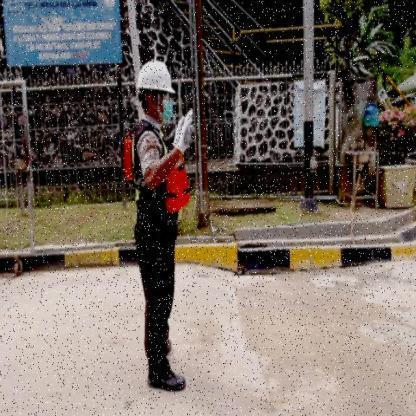boots: (146, 360, 187, 394)
gloves: (177, 110, 195, 154)
goggles: (144, 91, 172, 102)
helmet: (135, 58, 179, 96)
mask: (155, 100, 175, 124)
vest: (122, 136, 193, 213)
